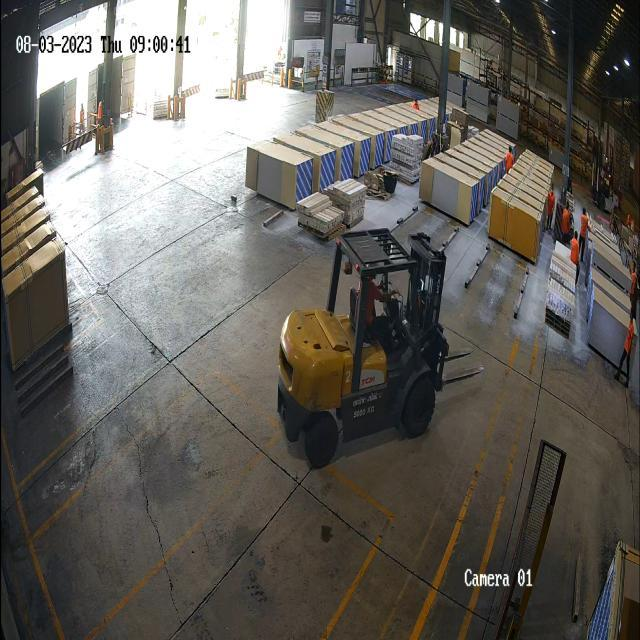driver: (362, 267, 394, 337)
forklift: (273, 214, 449, 476)
person: (620, 312, 636, 389), (560, 199, 572, 239), (570, 230, 580, 266), (580, 206, 588, 250), (548, 184, 554, 228), (506, 144, 514, 174), (80, 102, 85, 128)
